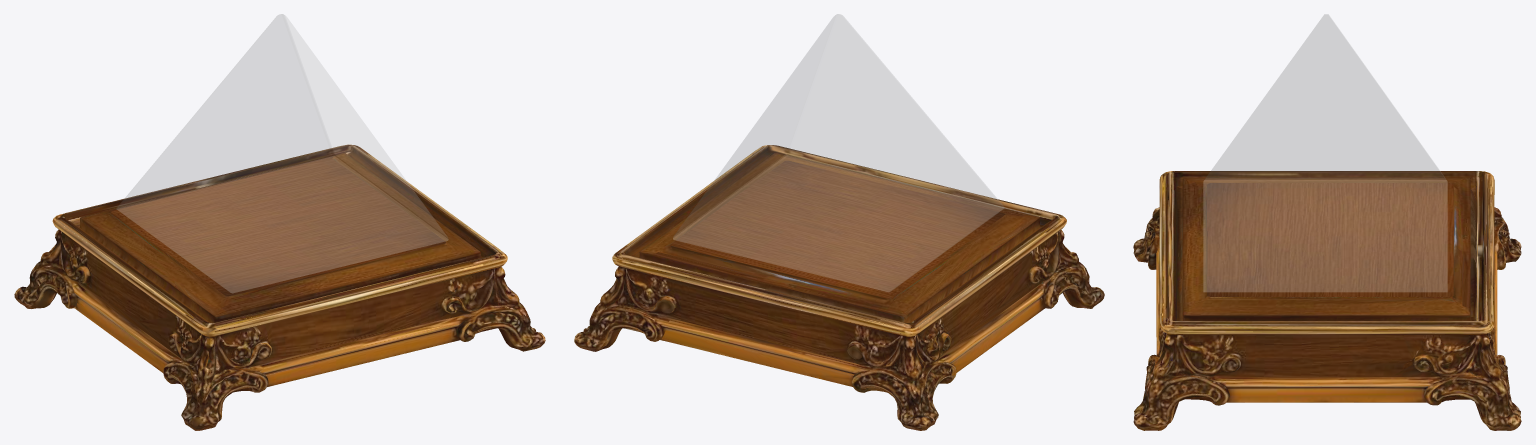
The model's file is prism_animated.glb.
3 renders of one model, left to right at view 1: azimuth 30°, elevation 25°; view 2: azimuth 150°, elevation 25°; view 3: azimuth 270°, elevation 25°, orthographic. The views are drawn at different scales.
Visible parts, largest first — view 1: body, rotation_part; view 2: body, rotation_part; view 3: body, rotation_part.
Boxes of the visible parts, bbox=[...] form: body: bbox=[14, 144, 545, 430]; rotation_part: bbox=[116, 14, 448, 292]; body: bbox=[574, 145, 1104, 430]; rotation_part: bbox=[673, 14, 1004, 291]; body: bbox=[1133, 171, 1521, 430]; rotation_part: bbox=[1203, 14, 1447, 291].
Size of the model in its own units: 0.363 by 0.3029 by 0.3252.
Materials: 2 (2 with a texture image).
